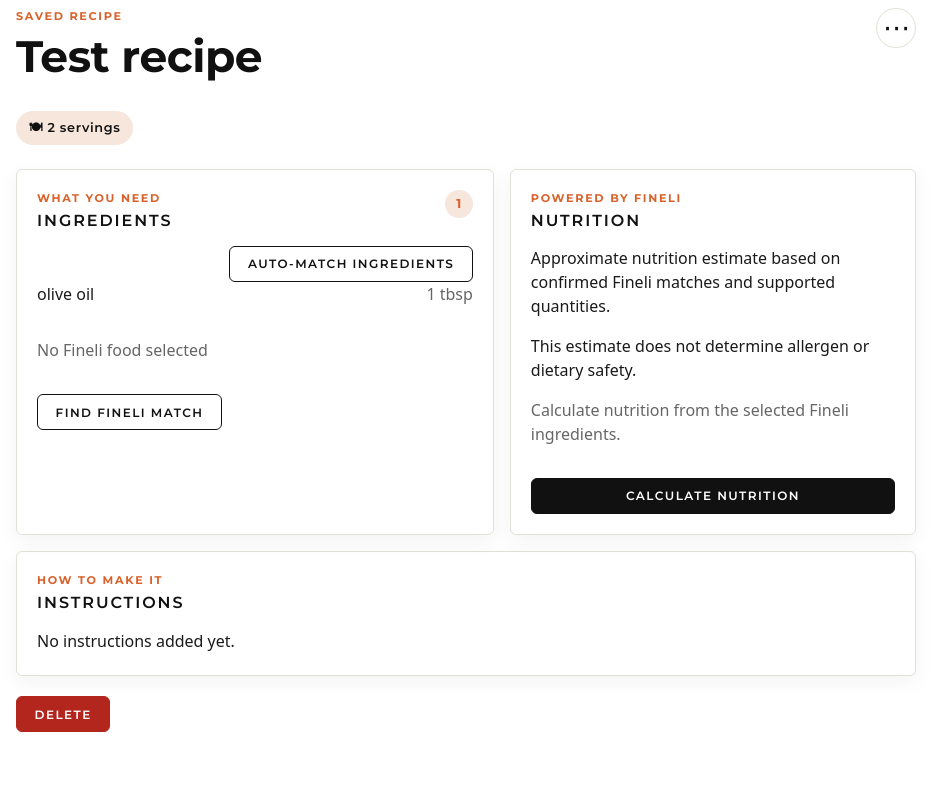
RecipeDetailPage ingredient matching › requires explicit confirmation of a Fineli candidate
Click the button "Find Fineli match": coordinates (130, 412) [37,394,222,430]
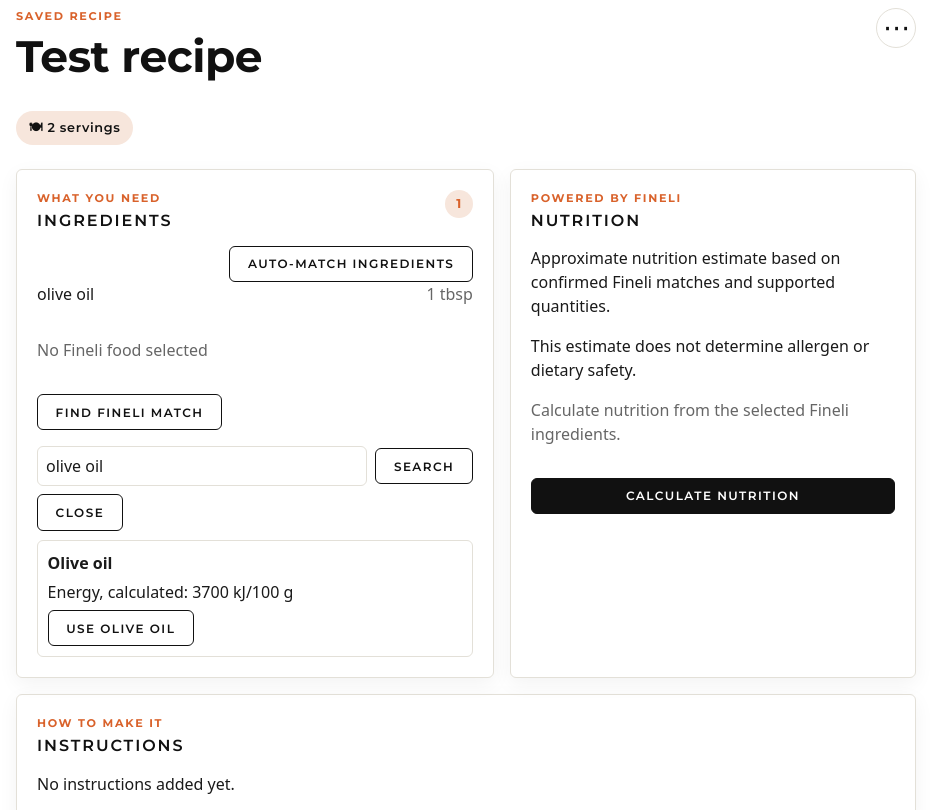
Now the button "Use Olive oil" is shown
Click the button "Use Olive oil": coordinates (121, 628) [48,610,194,646]
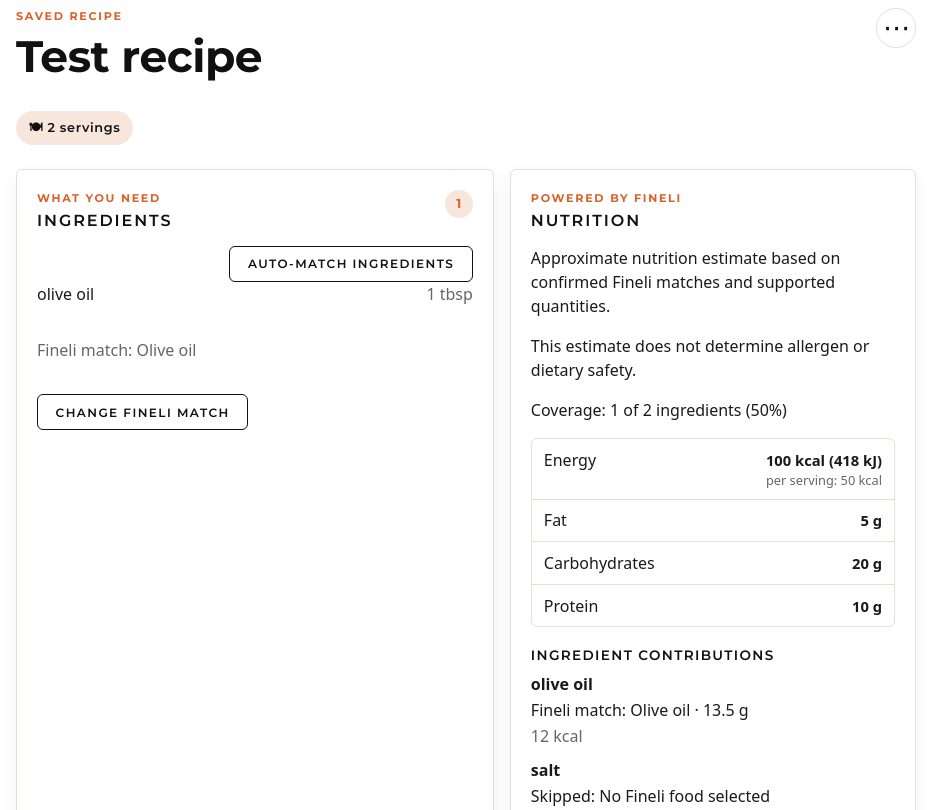
Now the text "Fineli match: Olive oil" is shown, box [37,339,196,361]
Now the text "Coverage: 1 of 2 ingredients (50%)" is shown, box [531,399,787,421]
